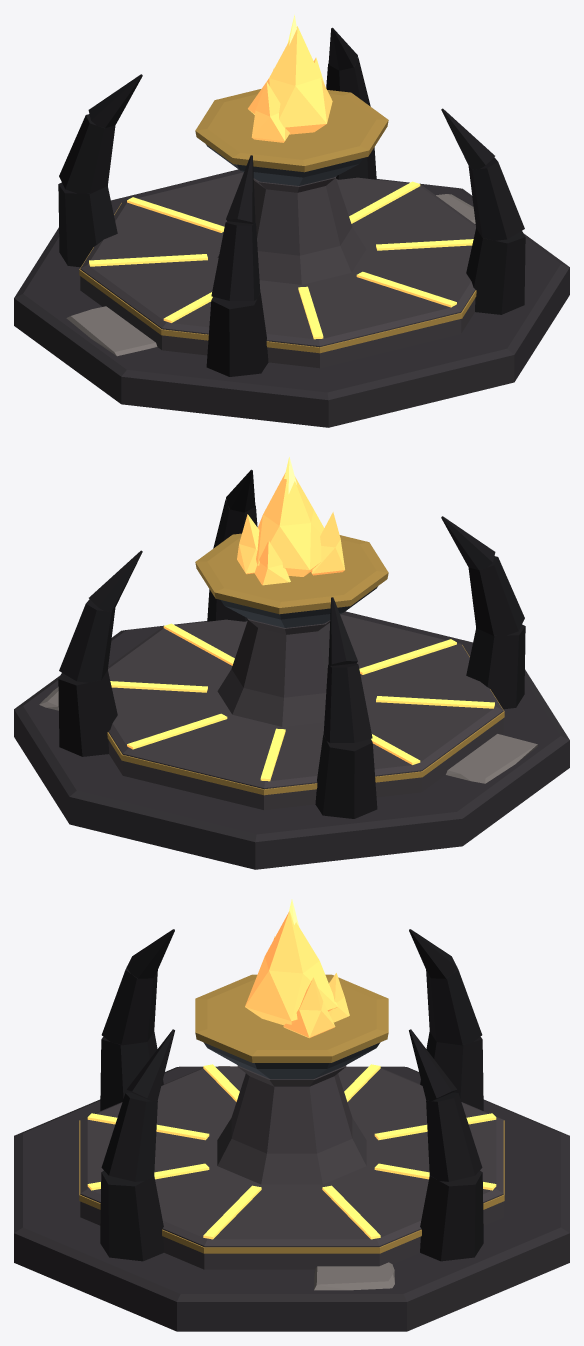
Rendered from Brimstone_Altar.fbx.
3 views of the same model, one above another, from view 1: azimuth 30°, elevation 25°; view 2: azimuth 150°, elevation 25°; view 3: azimuth 270°, elevation 25° (orthographic). The views are drawn at different scales.
Visible parts, largest first — view 1: Dais2, Dais, Horns, Gold, Flame, Channels, Ash, Bowl; view 2: Dais2, Dais, Horns, Gold, Flame, Channels, Ash, Bowl; view 3: Dais2, Dais, Horns, Gold, Flame, Channels, Ash, Bowl.
Part boxes in pixels (<box>): Dais2: <box>80,172,475,368</box>; Dais: <box>14,169,569,427</box>; Horns: <box>58,27,525,376</box>; Gold: <box>79,89,476,353</box>; Flame: <box>248,26,332,142</box>; Channels: <box>89,181,473,339</box>; Ash: <box>66,194,475,356</box>; Bowl: <box>206,144,362,185</box>; Dais2: <box>108,614,503,810</box>; Dais: <box>14,611,569,869</box>; Horns: <box>58,469,525,818</box>; Gold: <box>107,533,504,795</box>; Flame: <box>237,473,344,585</box>; Channels: <box>110,623,494,781</box>; Ash: <box>39,687,537,783</box>; Bowl: <box>221,586,377,627</box>; Dais2: <box>80,1065,503,1269</box>; Dais: <box>14,1066,569,1331</box>; Horns: <box>100,929,483,1261</box>; Gold: <box>79,974,504,1253</box>; Flame: <box>245,911,349,1038</box>; Channels: <box>87,1064,496,1239</box>; Ash: <box>218,1066,394,1290</box>; Bowl: <box>203,1042,380,1079</box>.
Bounding box in the file's own units: 8.5 × 5.35 × 8.5.
